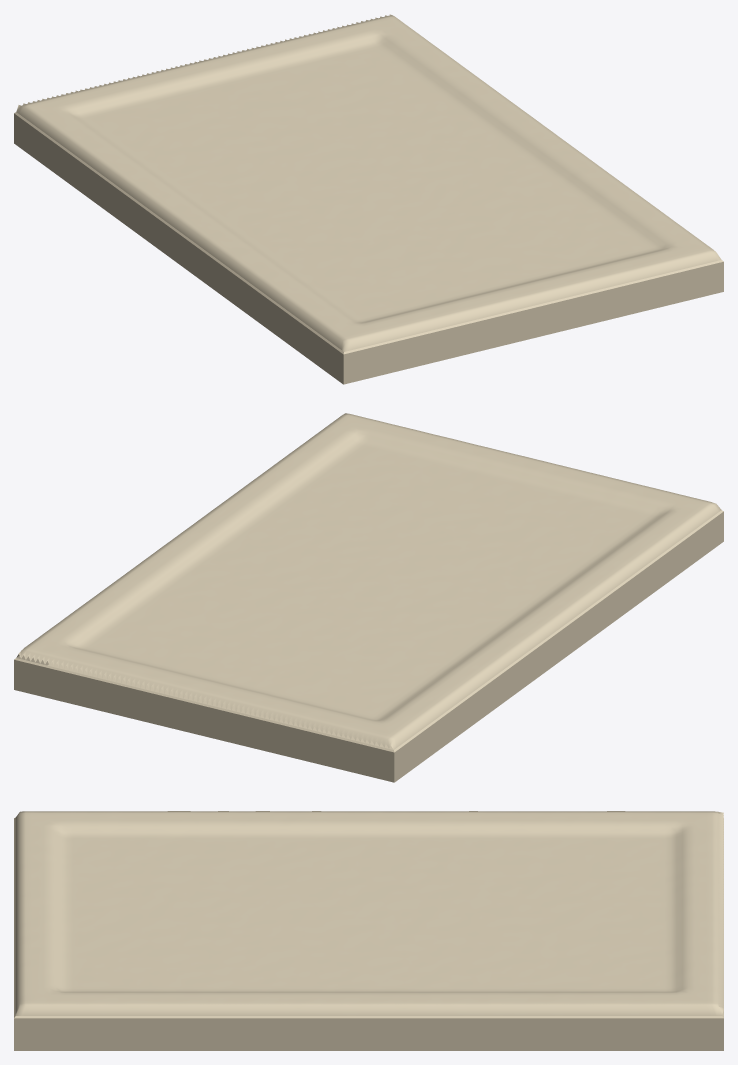
Rendered from mahsulot.glb.
3 views of the same model, one above another, from view 1: azimuth 30°, elevation 25°; view 2: azimuth 150°, elevation 25°; view 3: azimuth 270°, elevation 25° (orthographic). The views are drawn at different scales.
Parts seen in each view (by area): view 1: mahsulot; view 2: mahsulot; view 3: mahsulot.
Boxes of the visible parts, <box> form: mahsulot: <box>14,14,723,384</box>; mahsulot: <box>14,413,723,782</box>; mahsulot: <box>14,811,723,1050</box>.
Size of the model in its own units: 0.4 by 0.0399 by 0.6.
